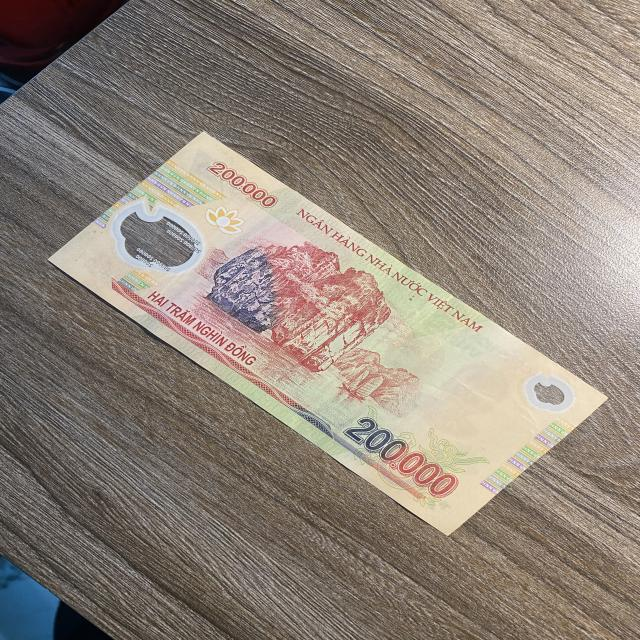200 000 VND: (46, 130, 609, 538)
